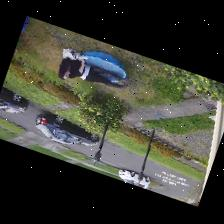person: (58, 57, 128, 89)
